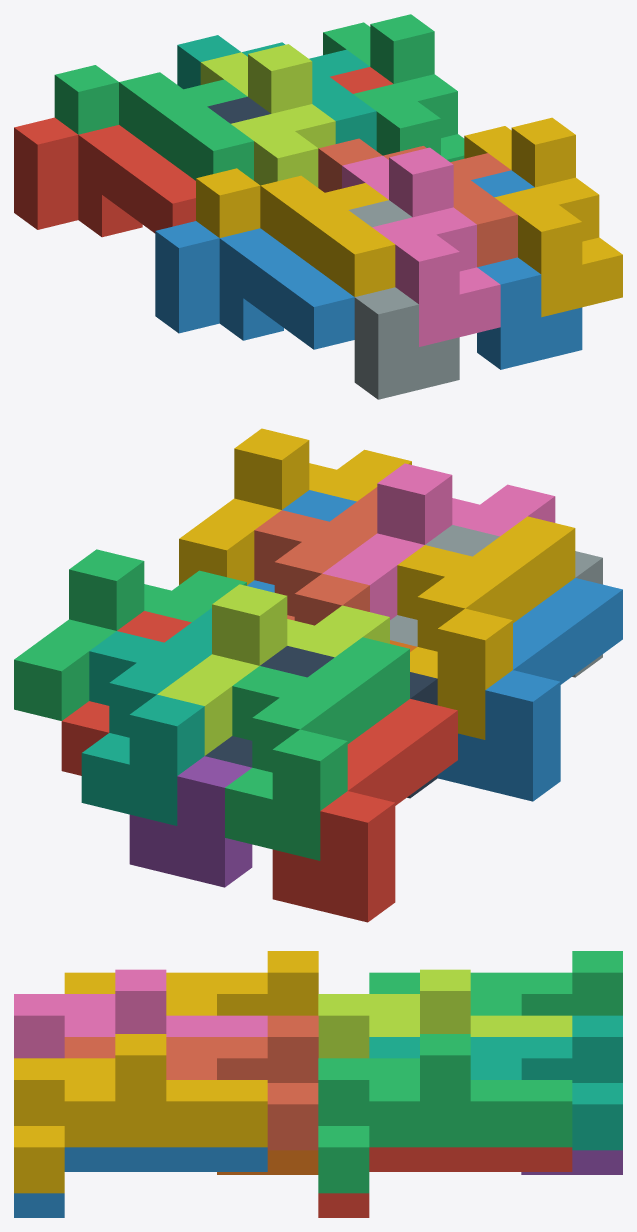
File: tiling.obj
The picture shows the model from 3 angles, top to bottom: view 1: azimuth 30°, elevation 25°; view 2: azimuth 150°, elevation 25°; view 3: azimuth 270°, elevation 25°; orthographic projection. The views are drawn at different scales.
Parts seen in each view (by area): view 1: copy_1_domain_2, copy_1_domain_1, copy_2_domain_4, copy_2_domain_8, copy_1_domain_4, copy_1_domain_3, copy_2_domain_7, copy_2_domain_3, copy_2_domain_2, copy_2_domain_6, copy_1_domain_8, copy_1_domain_7 (+2 smaller); view 2: copy_1_domain_3, copy_1_domain_4, copy_1_domain_1, copy_1_domain_2, copy_1_domain_7, copy_2_domain_7, copy_2_domain_8, copy_2_domain_3, copy_2_domain_4, copy_1_domain_8, copy_1_domain_5, copy_2_domain_5 (+3 smaller); view 3: copy_2_domain_7, copy_2_domain_8, copy_1_domain_8, copy_1_domain_7, copy_2_domain_3, copy_2_domain_4, copy_1_domain_4, copy_1_domain_3, copy_2_domain_5, copy_2_domain_6, copy_1_domain_6, copy_1_domain_5.
Boxes of the visible parts, box(x1,y1,x2,y2) form: copy_1_domain_2: box(155, 221, 354, 349); copy_1_domain_1: box(14, 117, 195, 237); copy_2_domain_4: box(342, 147, 500, 346); copy_2_domain_8: box(464, 117, 622, 317); copy_1_domain_4: box(196, 168, 395, 296); copy_1_domain_3: box(54, 65, 253, 180); copy_2_domain_7: box(323, 14, 464, 162); copy_2_domain_3: box(200, 44, 335, 187); copy_2_domain_2: box(348, 200, 459, 399); copy_2_domain_6: box(471, 170, 582, 369); copy_1_domain_8: box(318, 138, 517, 267); copy_1_domain_7: box(177, 35, 376, 150); copy_1_domain_3: box(225, 637, 409, 860); copy_1_domain_4: box(397, 516, 575, 739); copy_1_domain_1: box(272, 699, 457, 922); copy_1_domain_2: box(437, 578, 622, 801); copy_1_domain_7: box(81, 608, 211, 825); copy_2_domain_7: box(14, 549, 246, 720); copy_2_domain_8: box(179, 428, 411, 585); copy_2_domain_3: box(157, 584, 389, 755); copy_2_domain_4: box(322, 463, 555, 619); copy_1_domain_8: box(254, 487, 377, 625); copy_1_domain_5: box(129, 756, 252, 887); copy_2_domain_5: box(61, 611, 191, 775); copy_2_domain_7: box(318, 1034, 572, 1193); copy_2_domain_8: box(14, 1034, 267, 1193); copy_1_domain_8: box(64, 1015, 318, 1150); copy_1_domain_7: box(369, 1015, 622, 1150); copy_2_domain_3: box(318, 969, 572, 1058); copy_2_domain_4: box(14, 969, 267, 1058); copy_1_domain_4: box(64, 951, 318, 1015); copy_1_domain_3: box(369, 951, 622, 1015); copy_2_domain_5: box(318, 1147, 572, 1217); copy_2_domain_6: box(14, 1147, 267, 1217); copy_1_domain_6: box(217, 1150, 318, 1174); copy_1_domain_5: box(521, 1150, 622, 1174).
Bounding box in the file's own units: 8 × 4 × 12.
